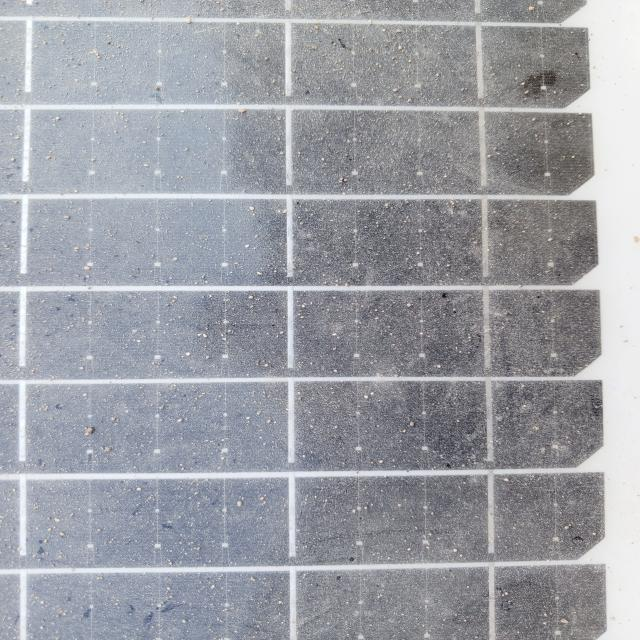Anomaly Solar Panel: (31, 15, 625, 628)
Surface Contaminant: (31, 15, 625, 628)
